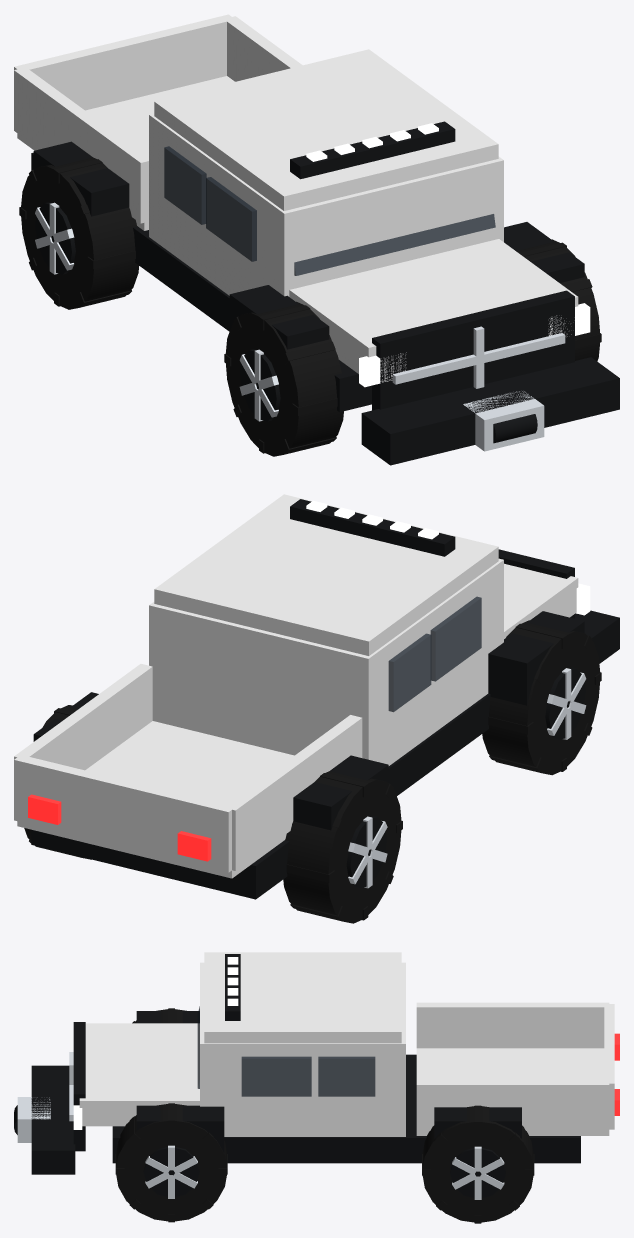
The model's file is headbutt-mammoth.glb.
3 renders of one model, top to bottom at view 1: azimuth 30°, elevation 25°; view 2: azimuth 150°, elevation 25°; view 3: azimuth 270°, elevation 25°, orthographic. The views are drawn at different scales.
Parts seen in each view (by area): view 1: chassis, wheel-front-left, wheel-back-left, glass, wheel-front-right; view 2: chassis, wheel-back-left, wheel-front-left; view 3: chassis, wheel-back-right, wheel-front-right.
Part boxes in pixels (x1,y1,x2,y2): chassis: (14, 14, 619, 465); wheel-front-left: (224, 301, 343, 456); wheel-back-left: (19, 157, 138, 309); glass: (294, 214, 495, 275); wheel-front-right: (516, 239, 601, 361); chassis: (14, 494, 619, 899); wheel-back-left: (283, 771, 402, 923); wheel-front-left: (482, 620, 601, 775); chassis: (14, 952, 619, 1174); wheel-back-right: (422, 1105, 534, 1223); wheel-front-right: (115, 1103, 227, 1222).
Size of the model in its own units: 3.19 by 2.34 by 6.92.
